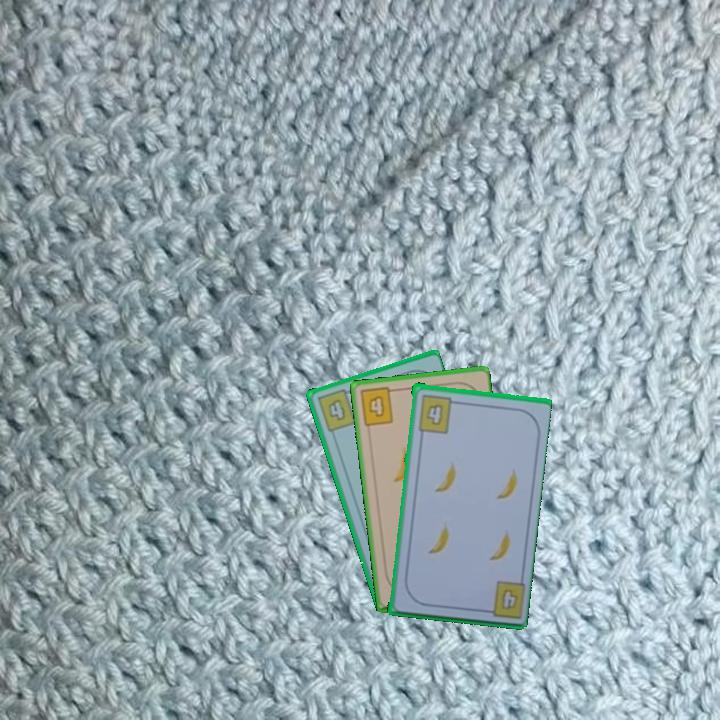4b: (314, 385, 358, 435), (478, 577, 526, 621), (414, 390, 460, 435), (356, 384, 400, 429)
